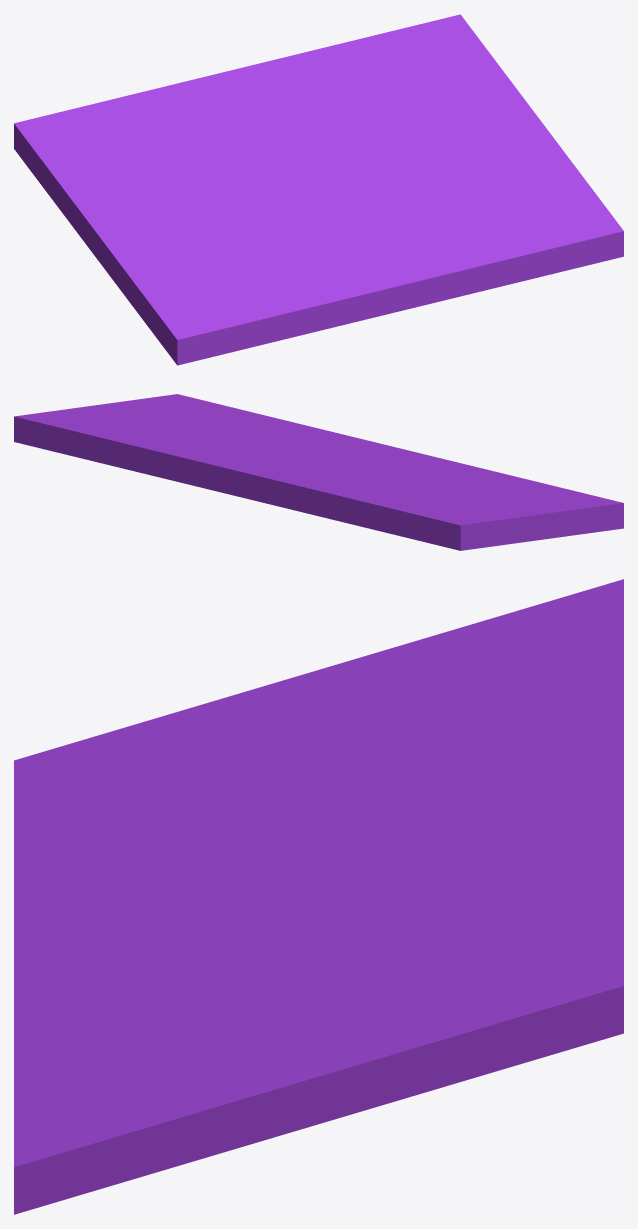
File: Window_142_chunks.fbx
The picture shows the model from 3 angles, top to bottom: view 1: azimuth 30°, elevation 25°; view 2: azimuth 150°, elevation 25°; view 3: azimuth 270°, elevation 25°; orthographic projection. The views are drawn at different scales.
Visible parts, largest first — view 1: Window_142_0, Window_142_2, Window_142_1, Window_142_3; view 2: Window_142_0, Window_142_3, Window_142_1, Window_142_2; view 3: Window_142_0, Window_142_2, Window_142_1, Window_142_3.
Part boxes in pixels (<box>): Window_142_0: <box>14,120,337,365</box>; Window_142_2: <box>314,141,623,326</box>; Window_142_1: <box>302,14,556,169</box>; Window_142_3: <box>28,53,340,187</box>; Window_142_0: <box>336,461,623,550</box>; Window_142_3: <box>172,454,446,535</box>; Window_142_1: <box>14,403,293,491</box>; Window_142_2: <box>111,394,472,466</box>; Window_142_0: <box>14,579,623,896</box>; Window_142_2: <box>14,870,323,1214</box>; Window_142_1: <box>242,841,623,1146</box>; Window_142_3: <box>296,592,623,892</box>.
Bounding box in the file's own units: 1838 × 482 × 1165.
